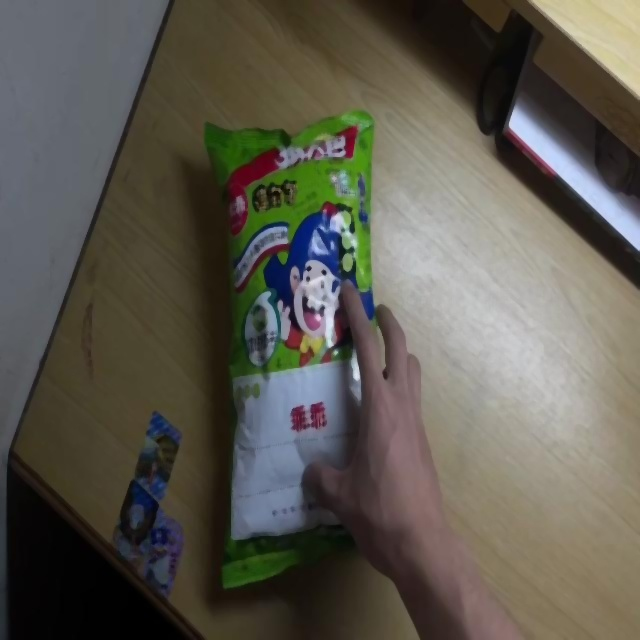Good-Luck: (202, 108, 378, 584)
